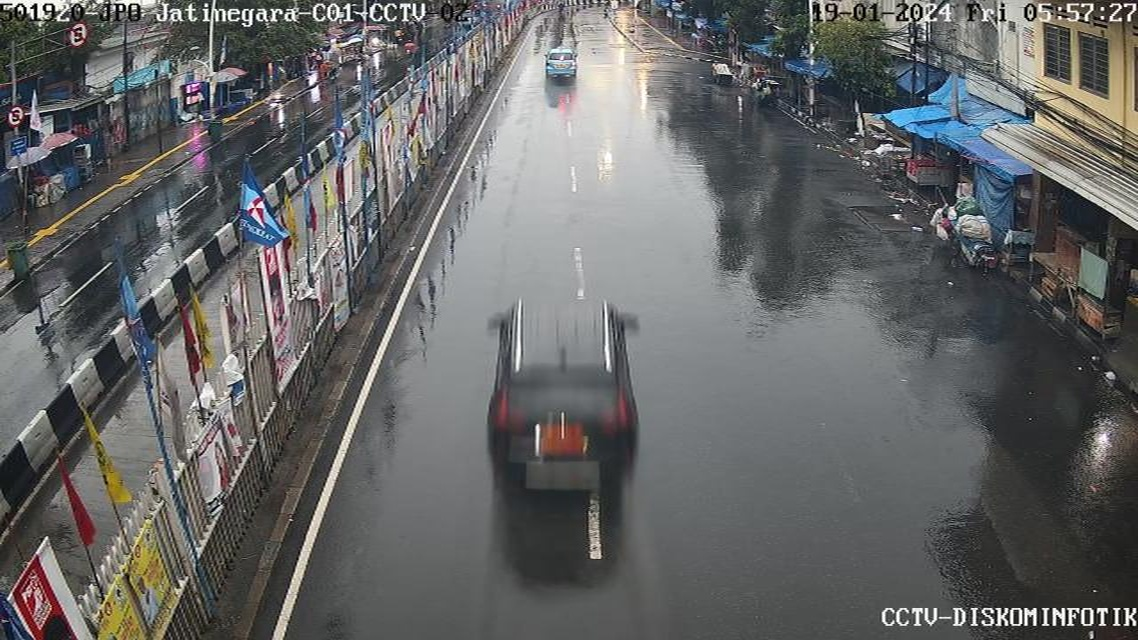Gerobak: (334, 42, 370, 74)
